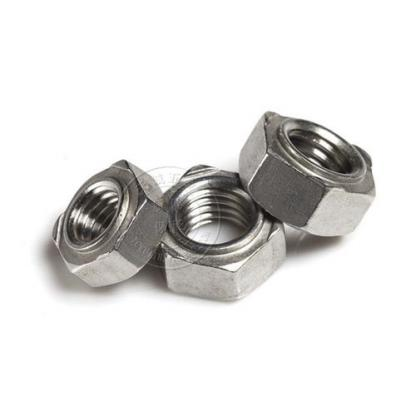FOD: (143, 161, 290, 306), (237, 110, 378, 240), (52, 157, 169, 290)
